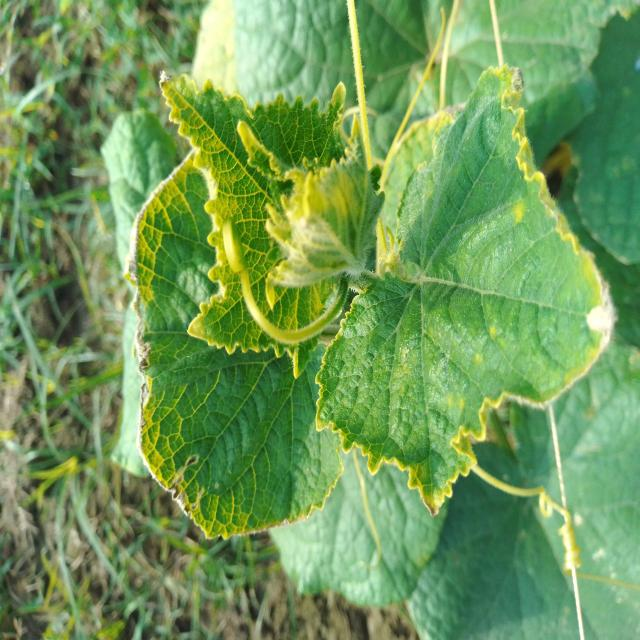cucumber_healthy: (314, 58, 620, 522), (130, 155, 345, 545), (152, 56, 361, 384)
